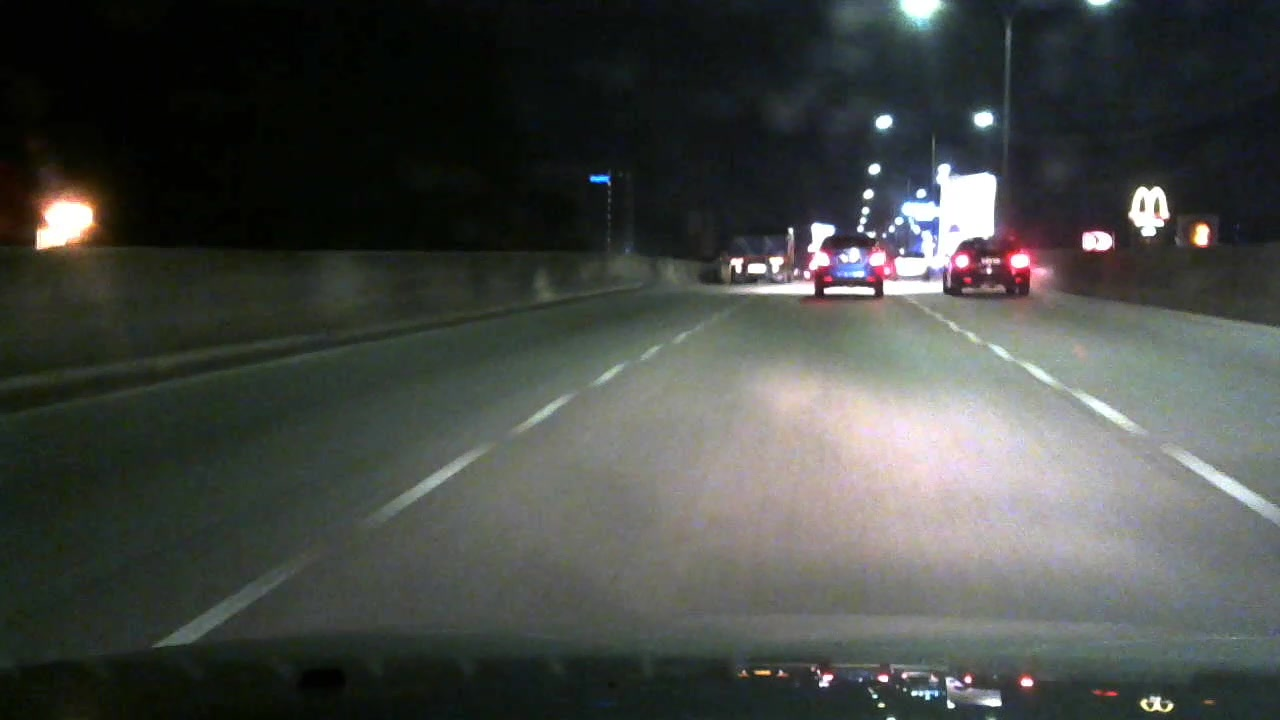Car: (939, 234, 1035, 302), (810, 232, 898, 306), (891, 240, 925, 285)
